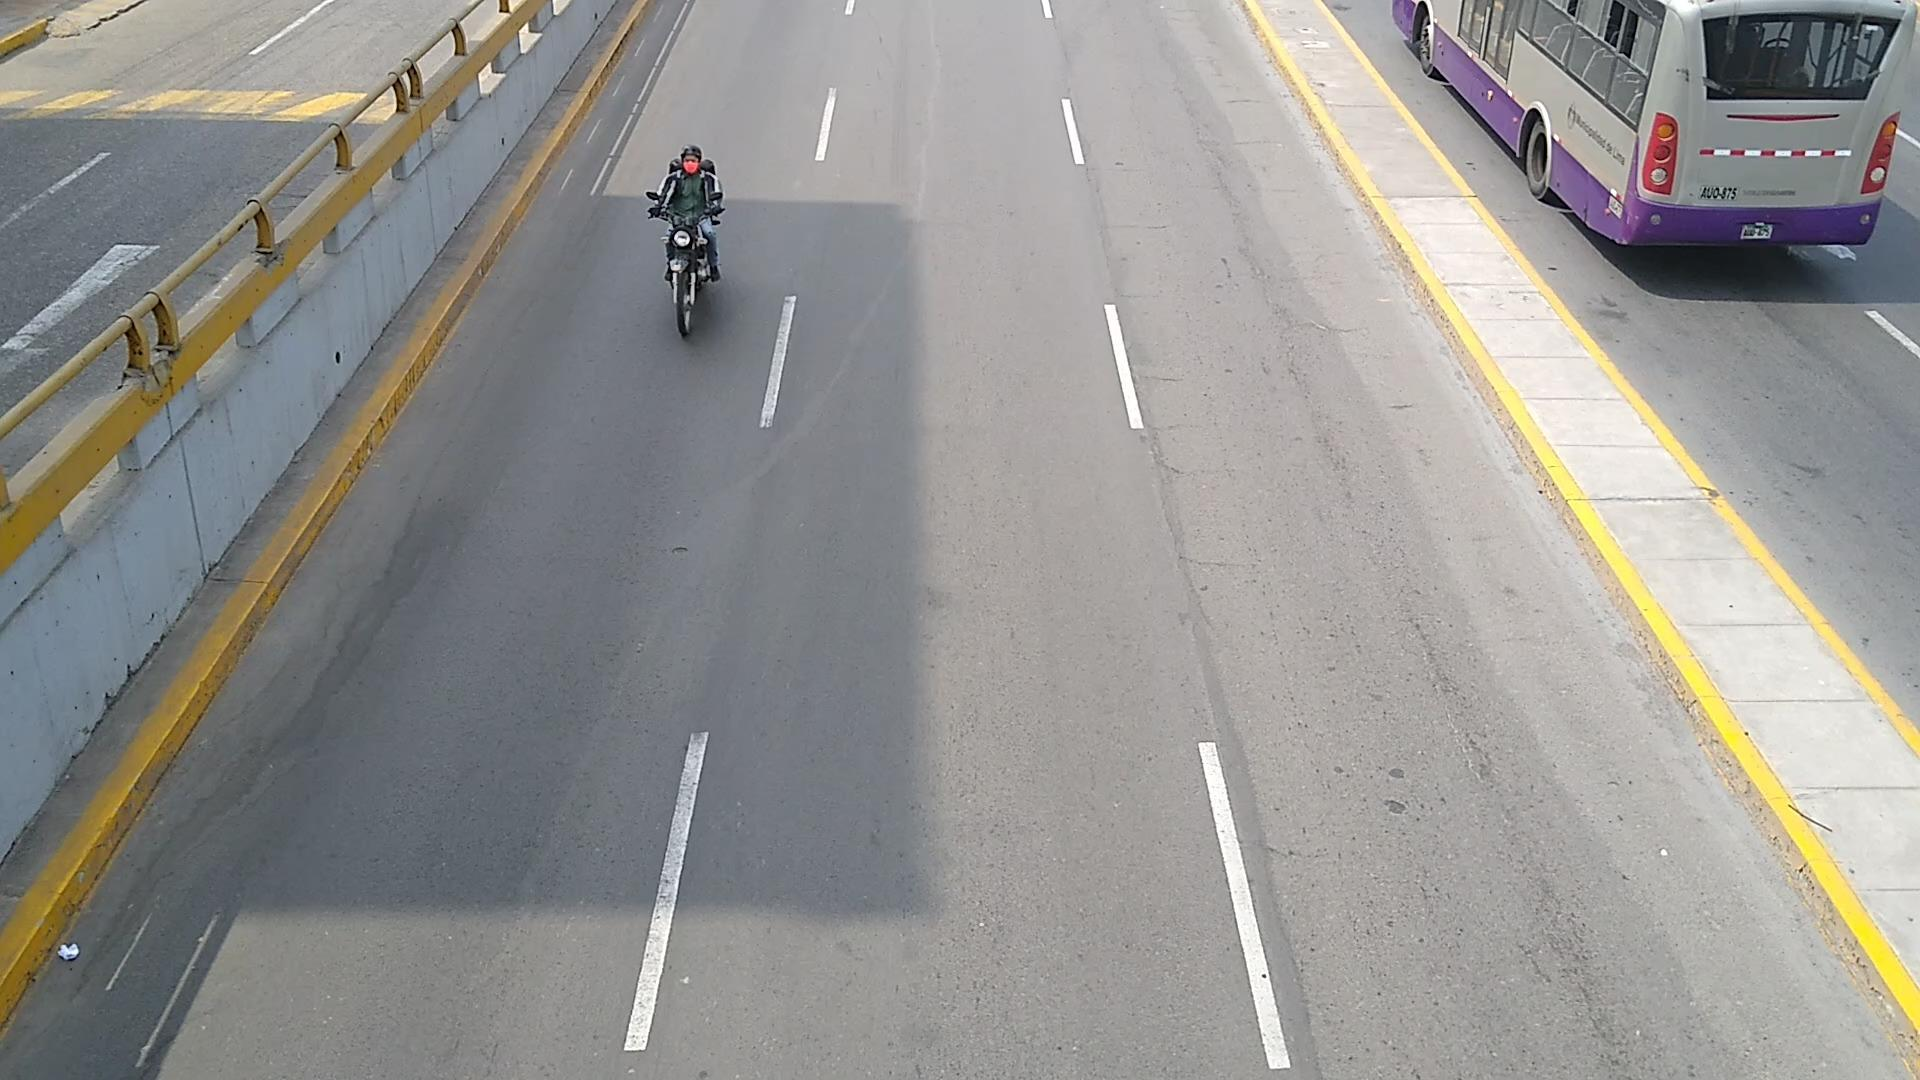bus: (1391, 0, 1920, 248)
motorcycle: (663, 214, 708, 338)
motorcyclist: (649, 146, 724, 280)
